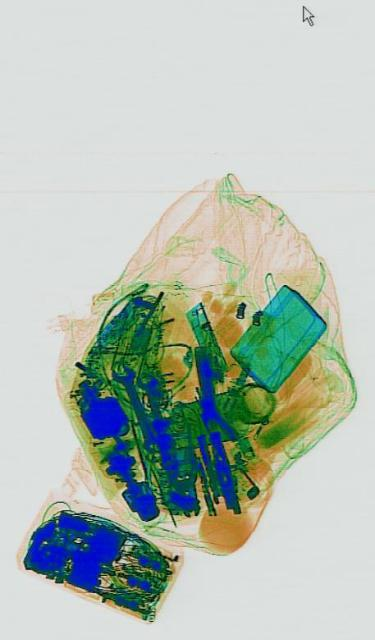Wrench: (109, 354, 161, 460), (134, 365, 175, 471)
